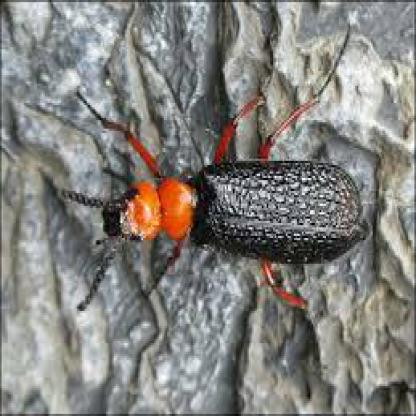blister beetle: (64, 90, 373, 312)
